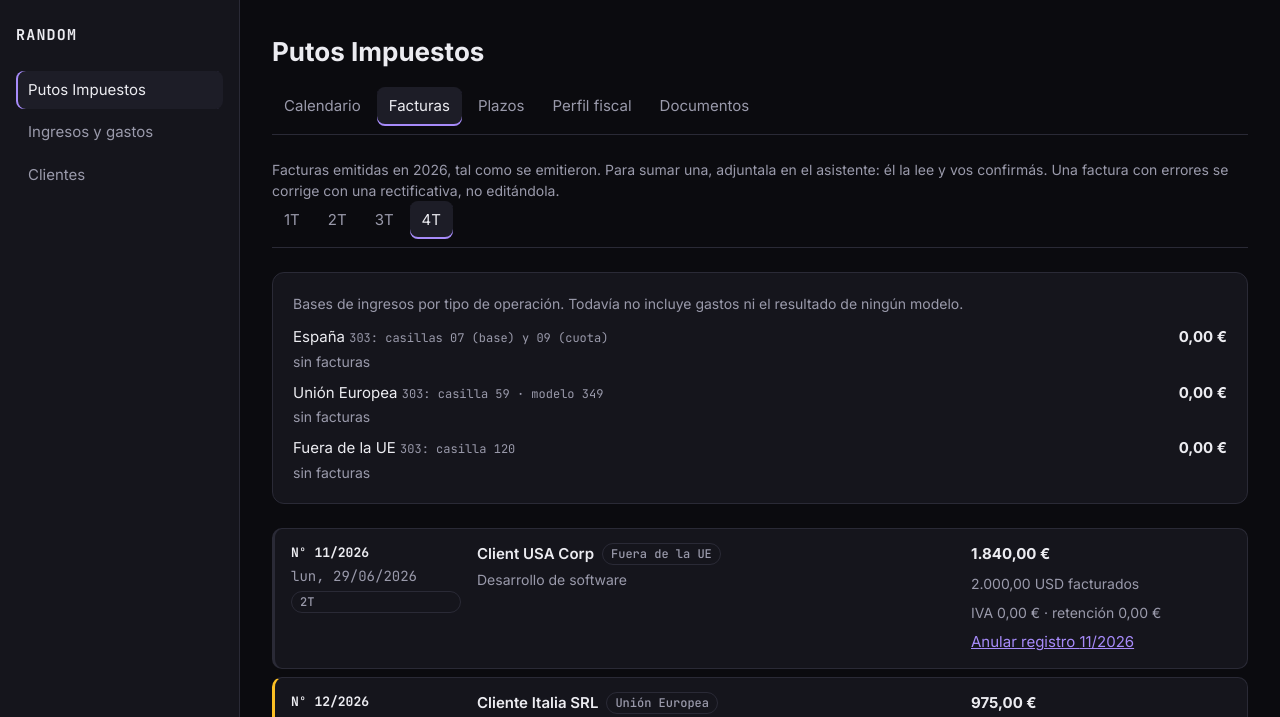
Test: facturas › muestra las bases del trimestre en curso y permite cambiar de trimestre
Expected: the text "sin facturas" is shown 3 times, [293,352,370,370]; [293,408,370,425]; [293,464,370,480]
What coordinates should you click on to do the following:
click the button "3T"
I would click on:
 (384, 220)
Its box is [363,200,406,239].
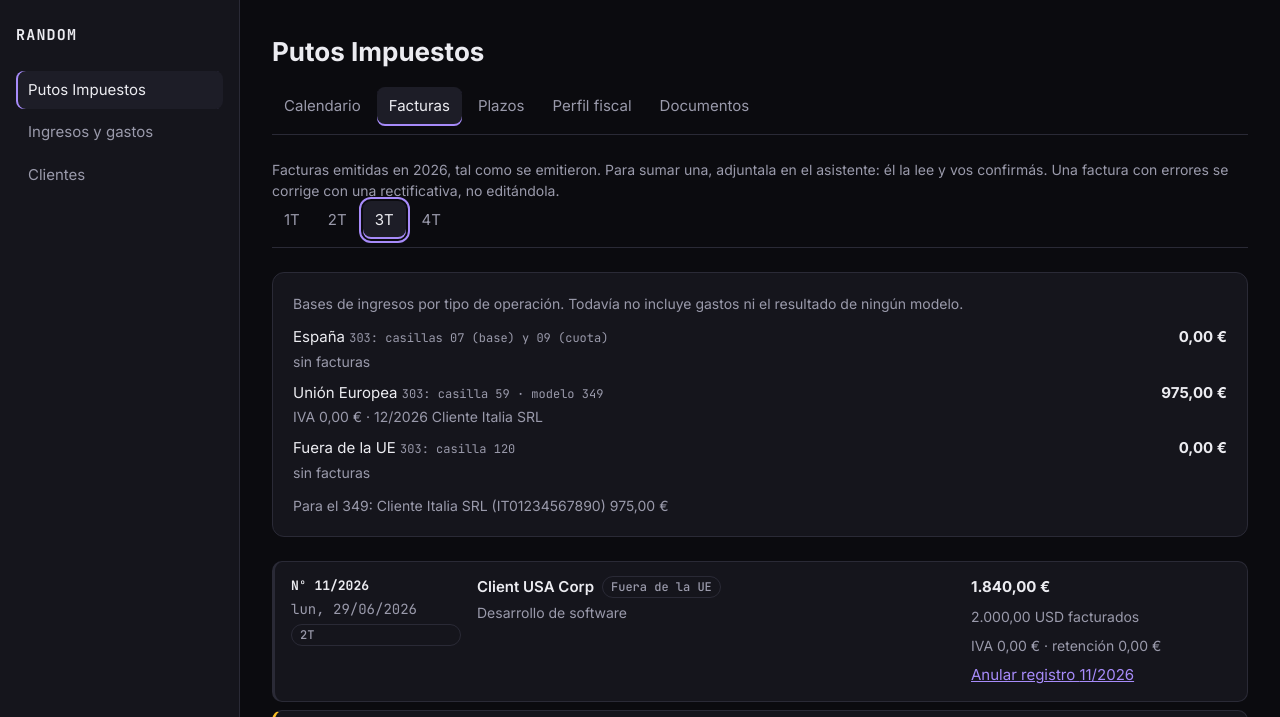
Expected: the text "303: casilla 59 · modelo 349" is shown, [402,386,603,402]
Result: the text "IVA 0,00 € · 12/2026 Cliente Italia SRL" is shown at [293,408,543,425]
Result: the text "Para el 349: Cliente Italia SRL (IT01234567890) 975,00 €" is shown at [293,496,668,514]
